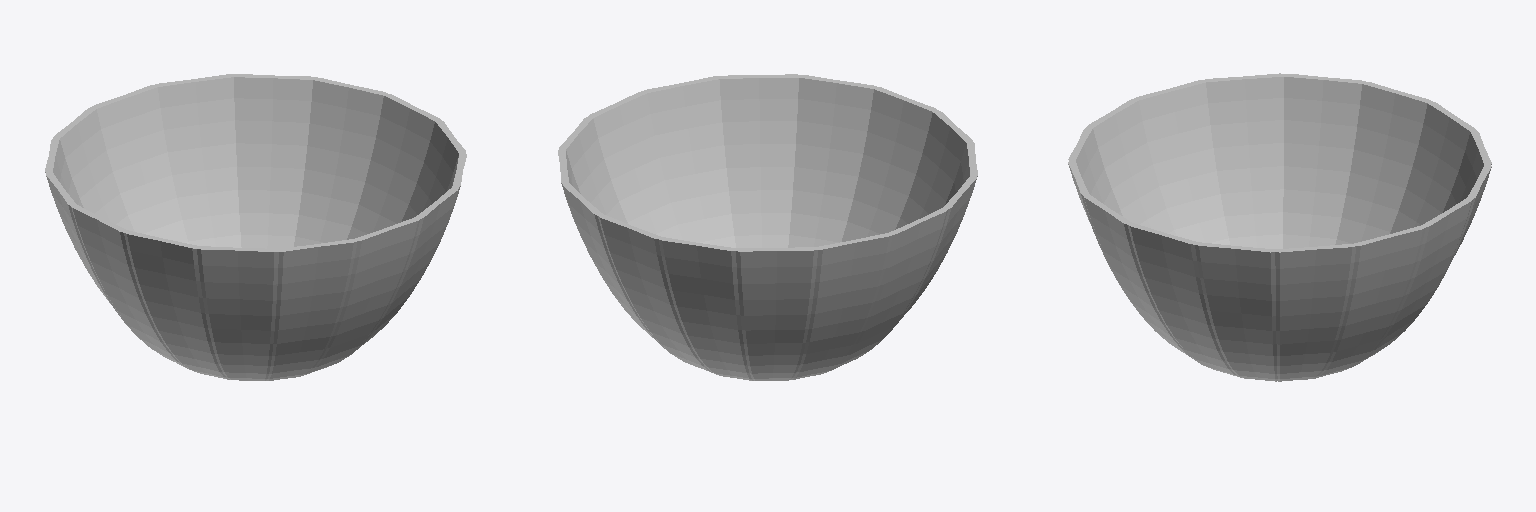
File: blackhole.obj
3 renders of one model, left to right at view 1: azimuth 30°, elevation 25°; view 2: azimuth 150°, elevation 25°; view 3: azimuth 270°, elevation 25°, orthographic.
Parts seen in each view (by area): view 1: BezierCurve, BezierCurve.001; view 2: BezierCurve, BezierCurve.001; view 3: BezierCurve, BezierCurve.001.
Part boxes in pixels (x1,y1,x2,y2): BezierCurve: (46,74,465,380); BezierCurve.001: (45,74,466,380); BezierCurve: (558,74,977,380); BezierCurve.001: (559,75,976,380); BezierCurve: (1068,73,1491,381); BezierCurve.001: (1068,74,1491,381).
Size of the model in its own units: 62 by 30 by 62.